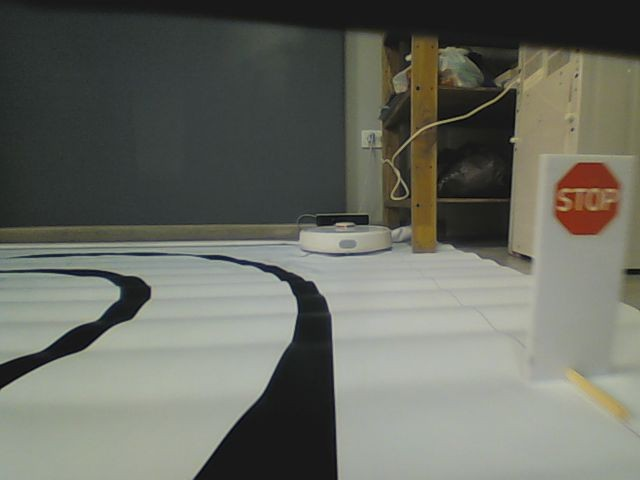Stop: (551, 160, 625, 237)
